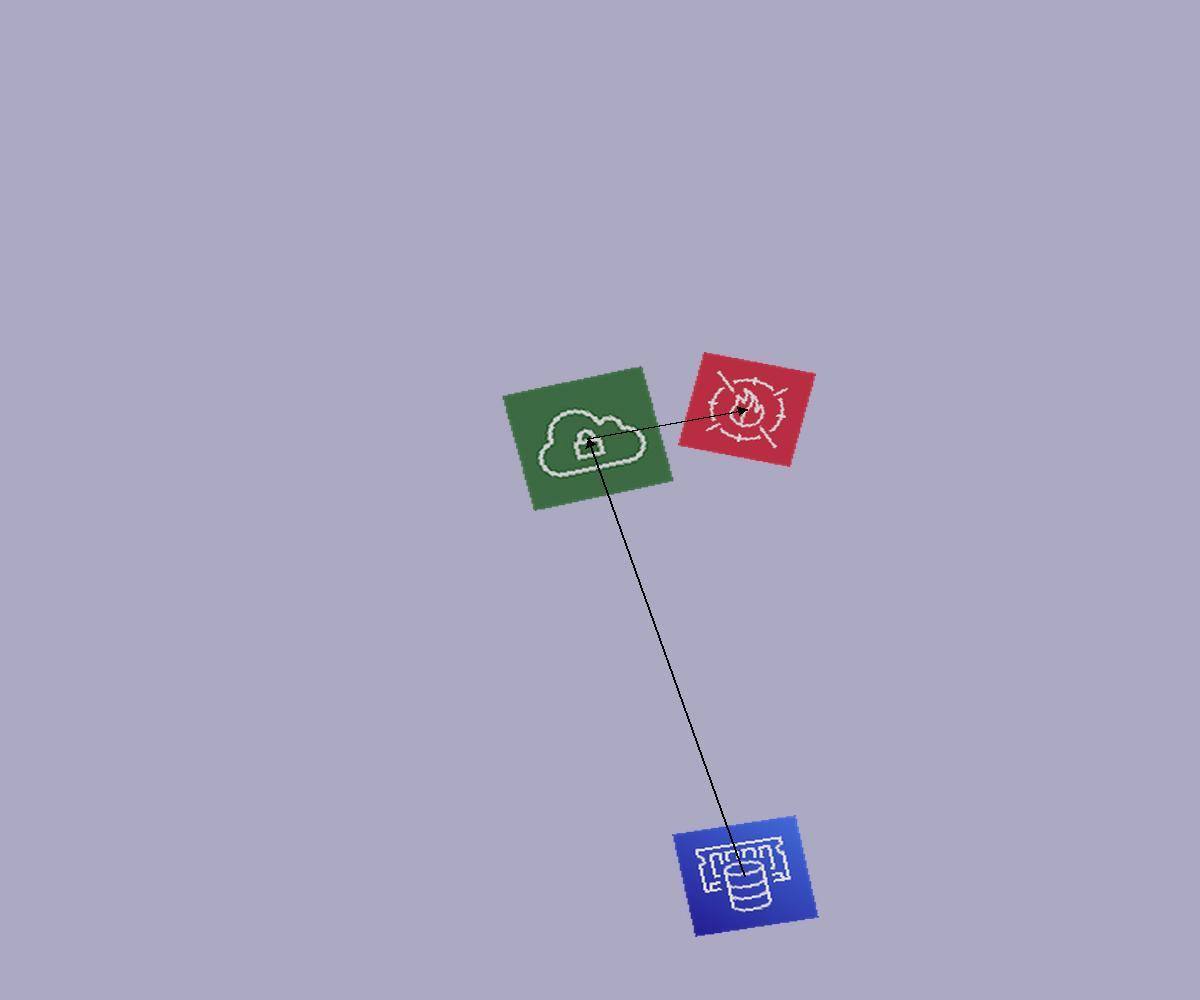AWS-ElastiCache: (672, 815, 819, 937)
AWS-Private_vpc: (501, 366, 675, 511)
AWS-WAF: (678, 352, 816, 467)
